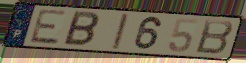5: (167, 17, 200, 54)
6: (133, 15, 164, 51)
B: (194, 18, 236, 56), (61, 10, 101, 48)
E: (27, 9, 69, 46)
I: (110, 12, 131, 50)
